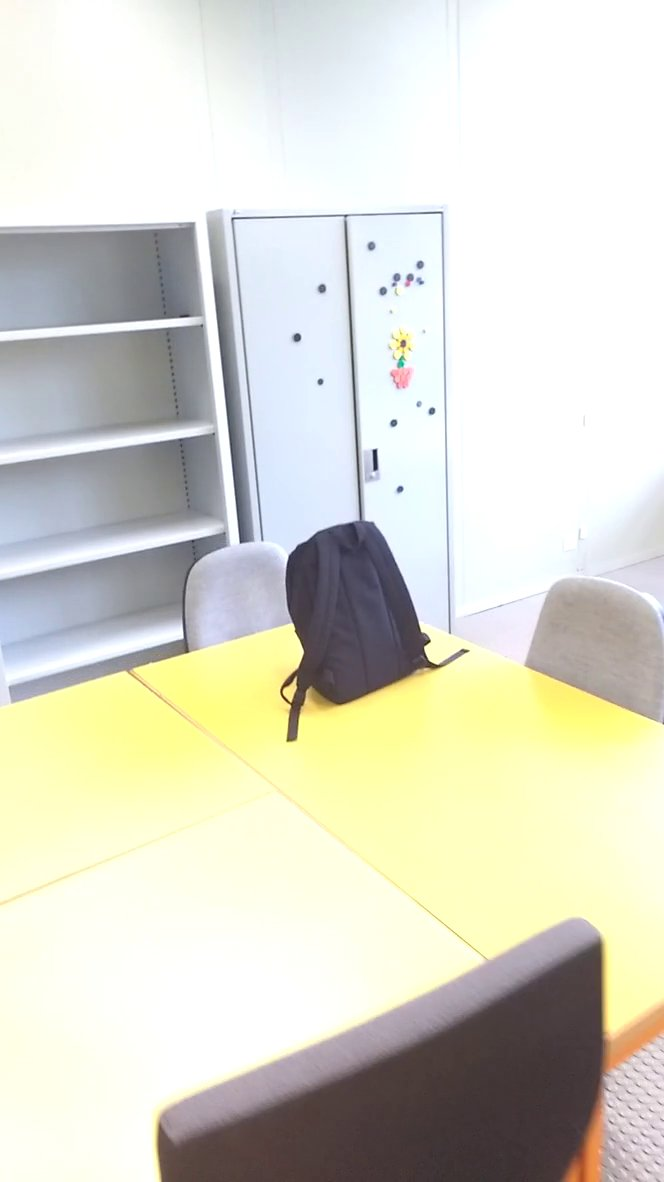bag: (273, 514, 480, 745)
chair: (515, 564, 664, 737), (173, 531, 326, 670)
